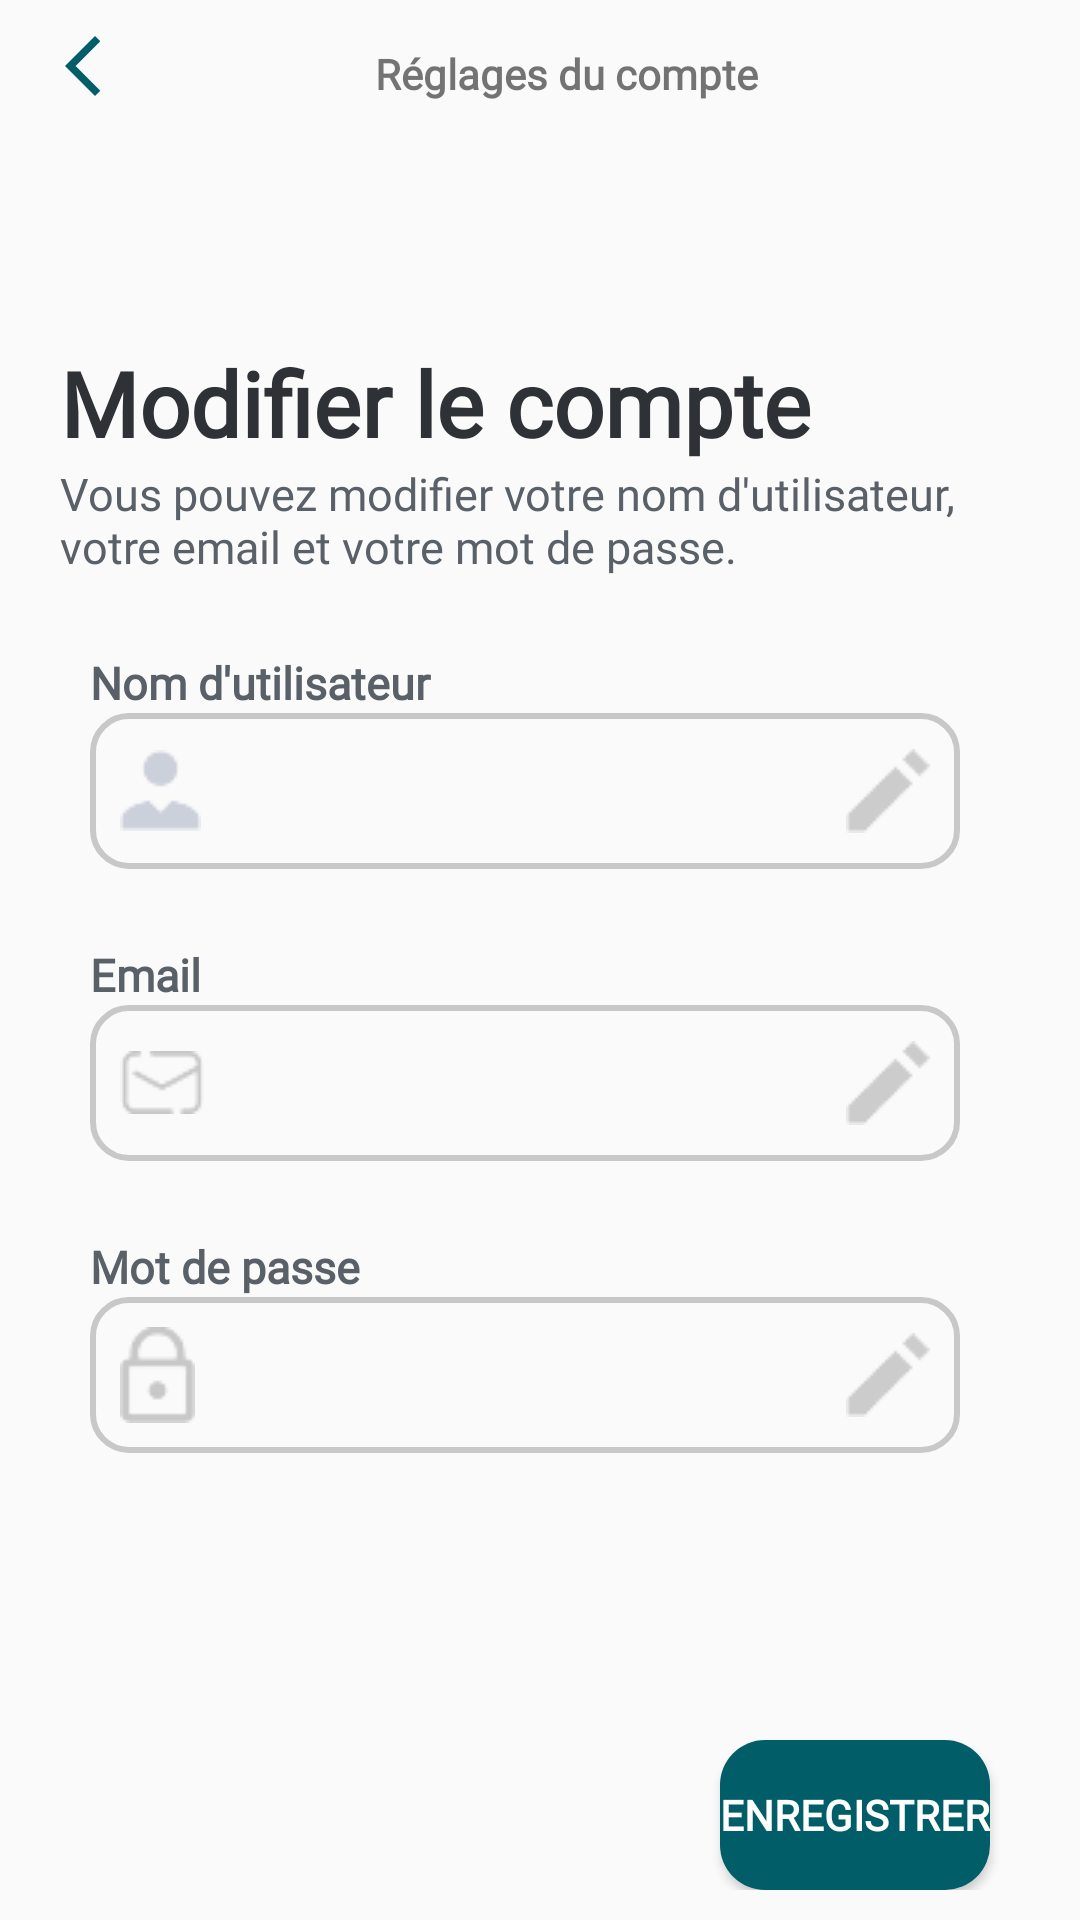

Icons on this 1080x1920 Android screen, each with its box as box(x1, y1, x2, y2):
arrow back: box(65, 36, 100, 96)
edit: box(815, 713, 960, 869), box(815, 1005, 960, 1161), box(815, 1297, 960, 1453)
